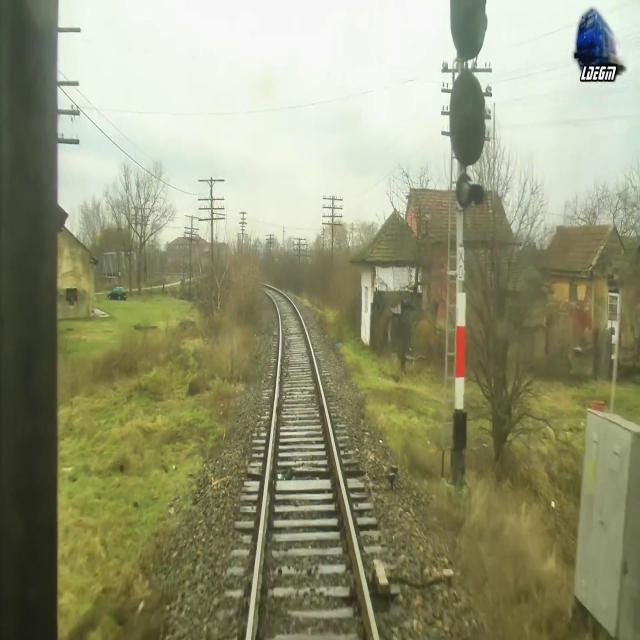rail-track: (250, 281, 375, 639)
